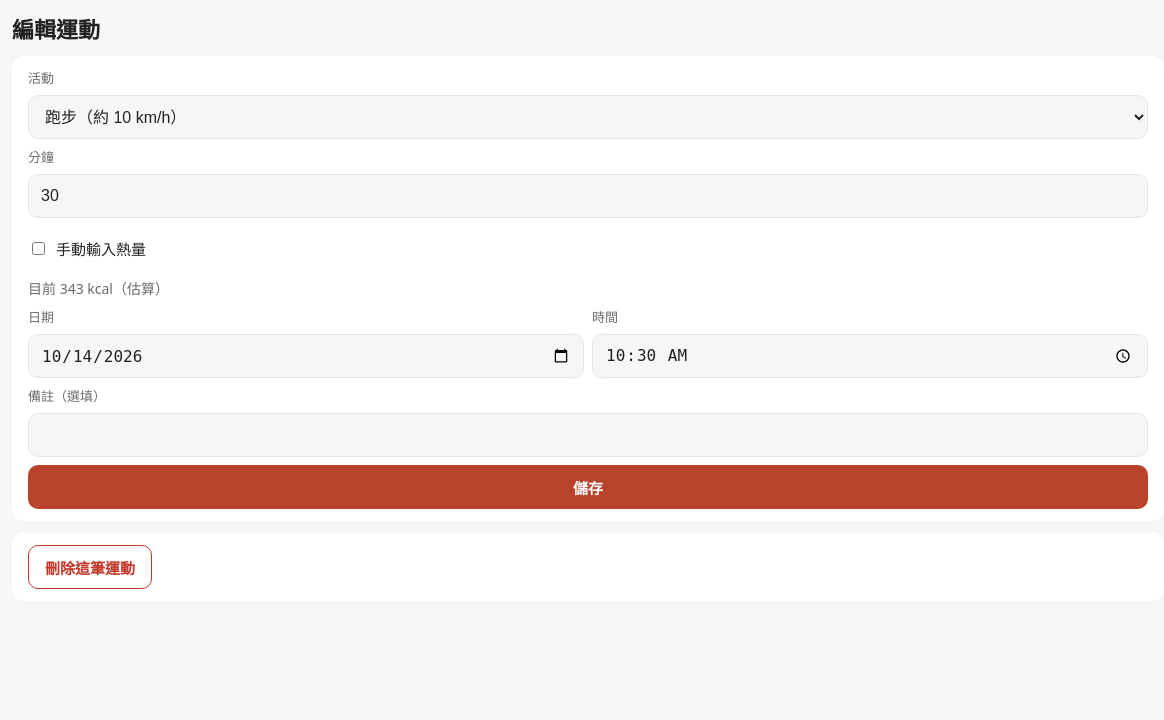
it: 編輯運動 › 估算的那一筆、活動分鐘時間沒動：顯示存好的熱量，不問預覽（體重改了的預覽數字不是會存的）
Expected: the text "目前 343 kcal（估算）" is shown, x1=28 y1=279 x2=169 y2=298
# 改了分鐘才問；改回來又是存好的那個數字。
Replace the text in the field labelled "分鐘" with "60" at (588, 196), box x1=28 y1=174 x2=1148 y2=218
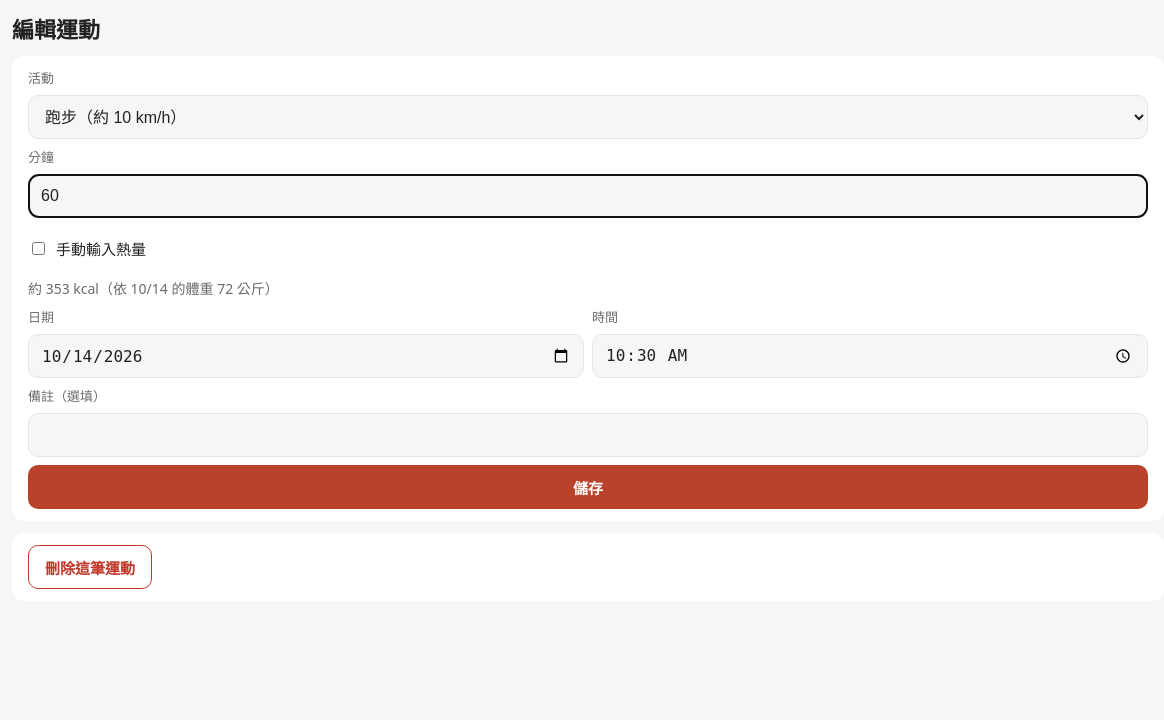
Now the text "約 353 kcal（依 10/14 的體重 72 公斤）" is shown, box x1=28 y1=279 x2=279 y2=298
Replace the text in the field labelled "分鐘" with "30" at (588, 196), box x1=28 y1=174 x2=1148 y2=218
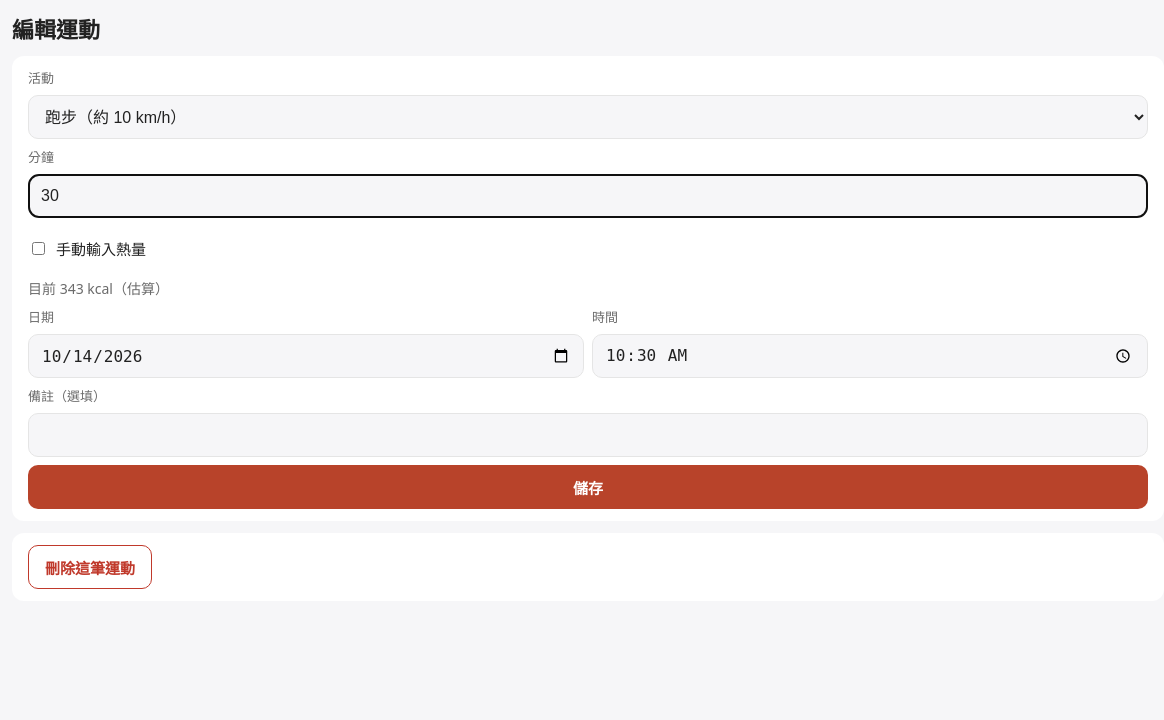
Now the text "目前 343 kcal（估算）" is shown, box x1=28 y1=279 x2=169 y2=298
